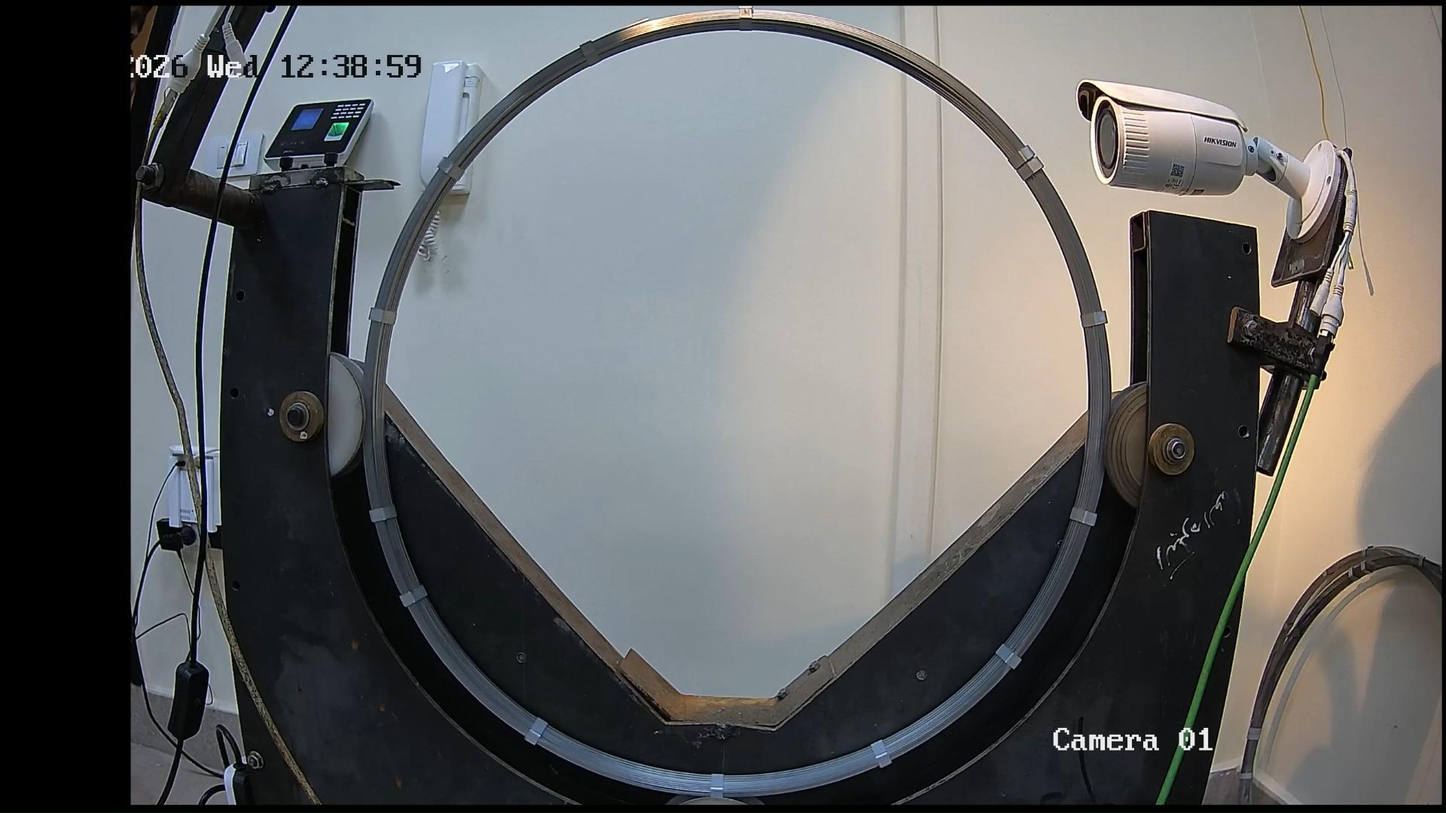Clamp: (995, 642, 1020, 669), (525, 717, 548, 744), (1018, 156, 1043, 180), (438, 157, 464, 180), (1010, 145, 1036, 168), (399, 586, 427, 607), (871, 740, 891, 766), (1071, 506, 1095, 526), (581, 41, 600, 64), (369, 506, 396, 522), (368, 308, 395, 324), (1081, 311, 1107, 327), (710, 775, 723, 797), (740, 7, 752, 29)
